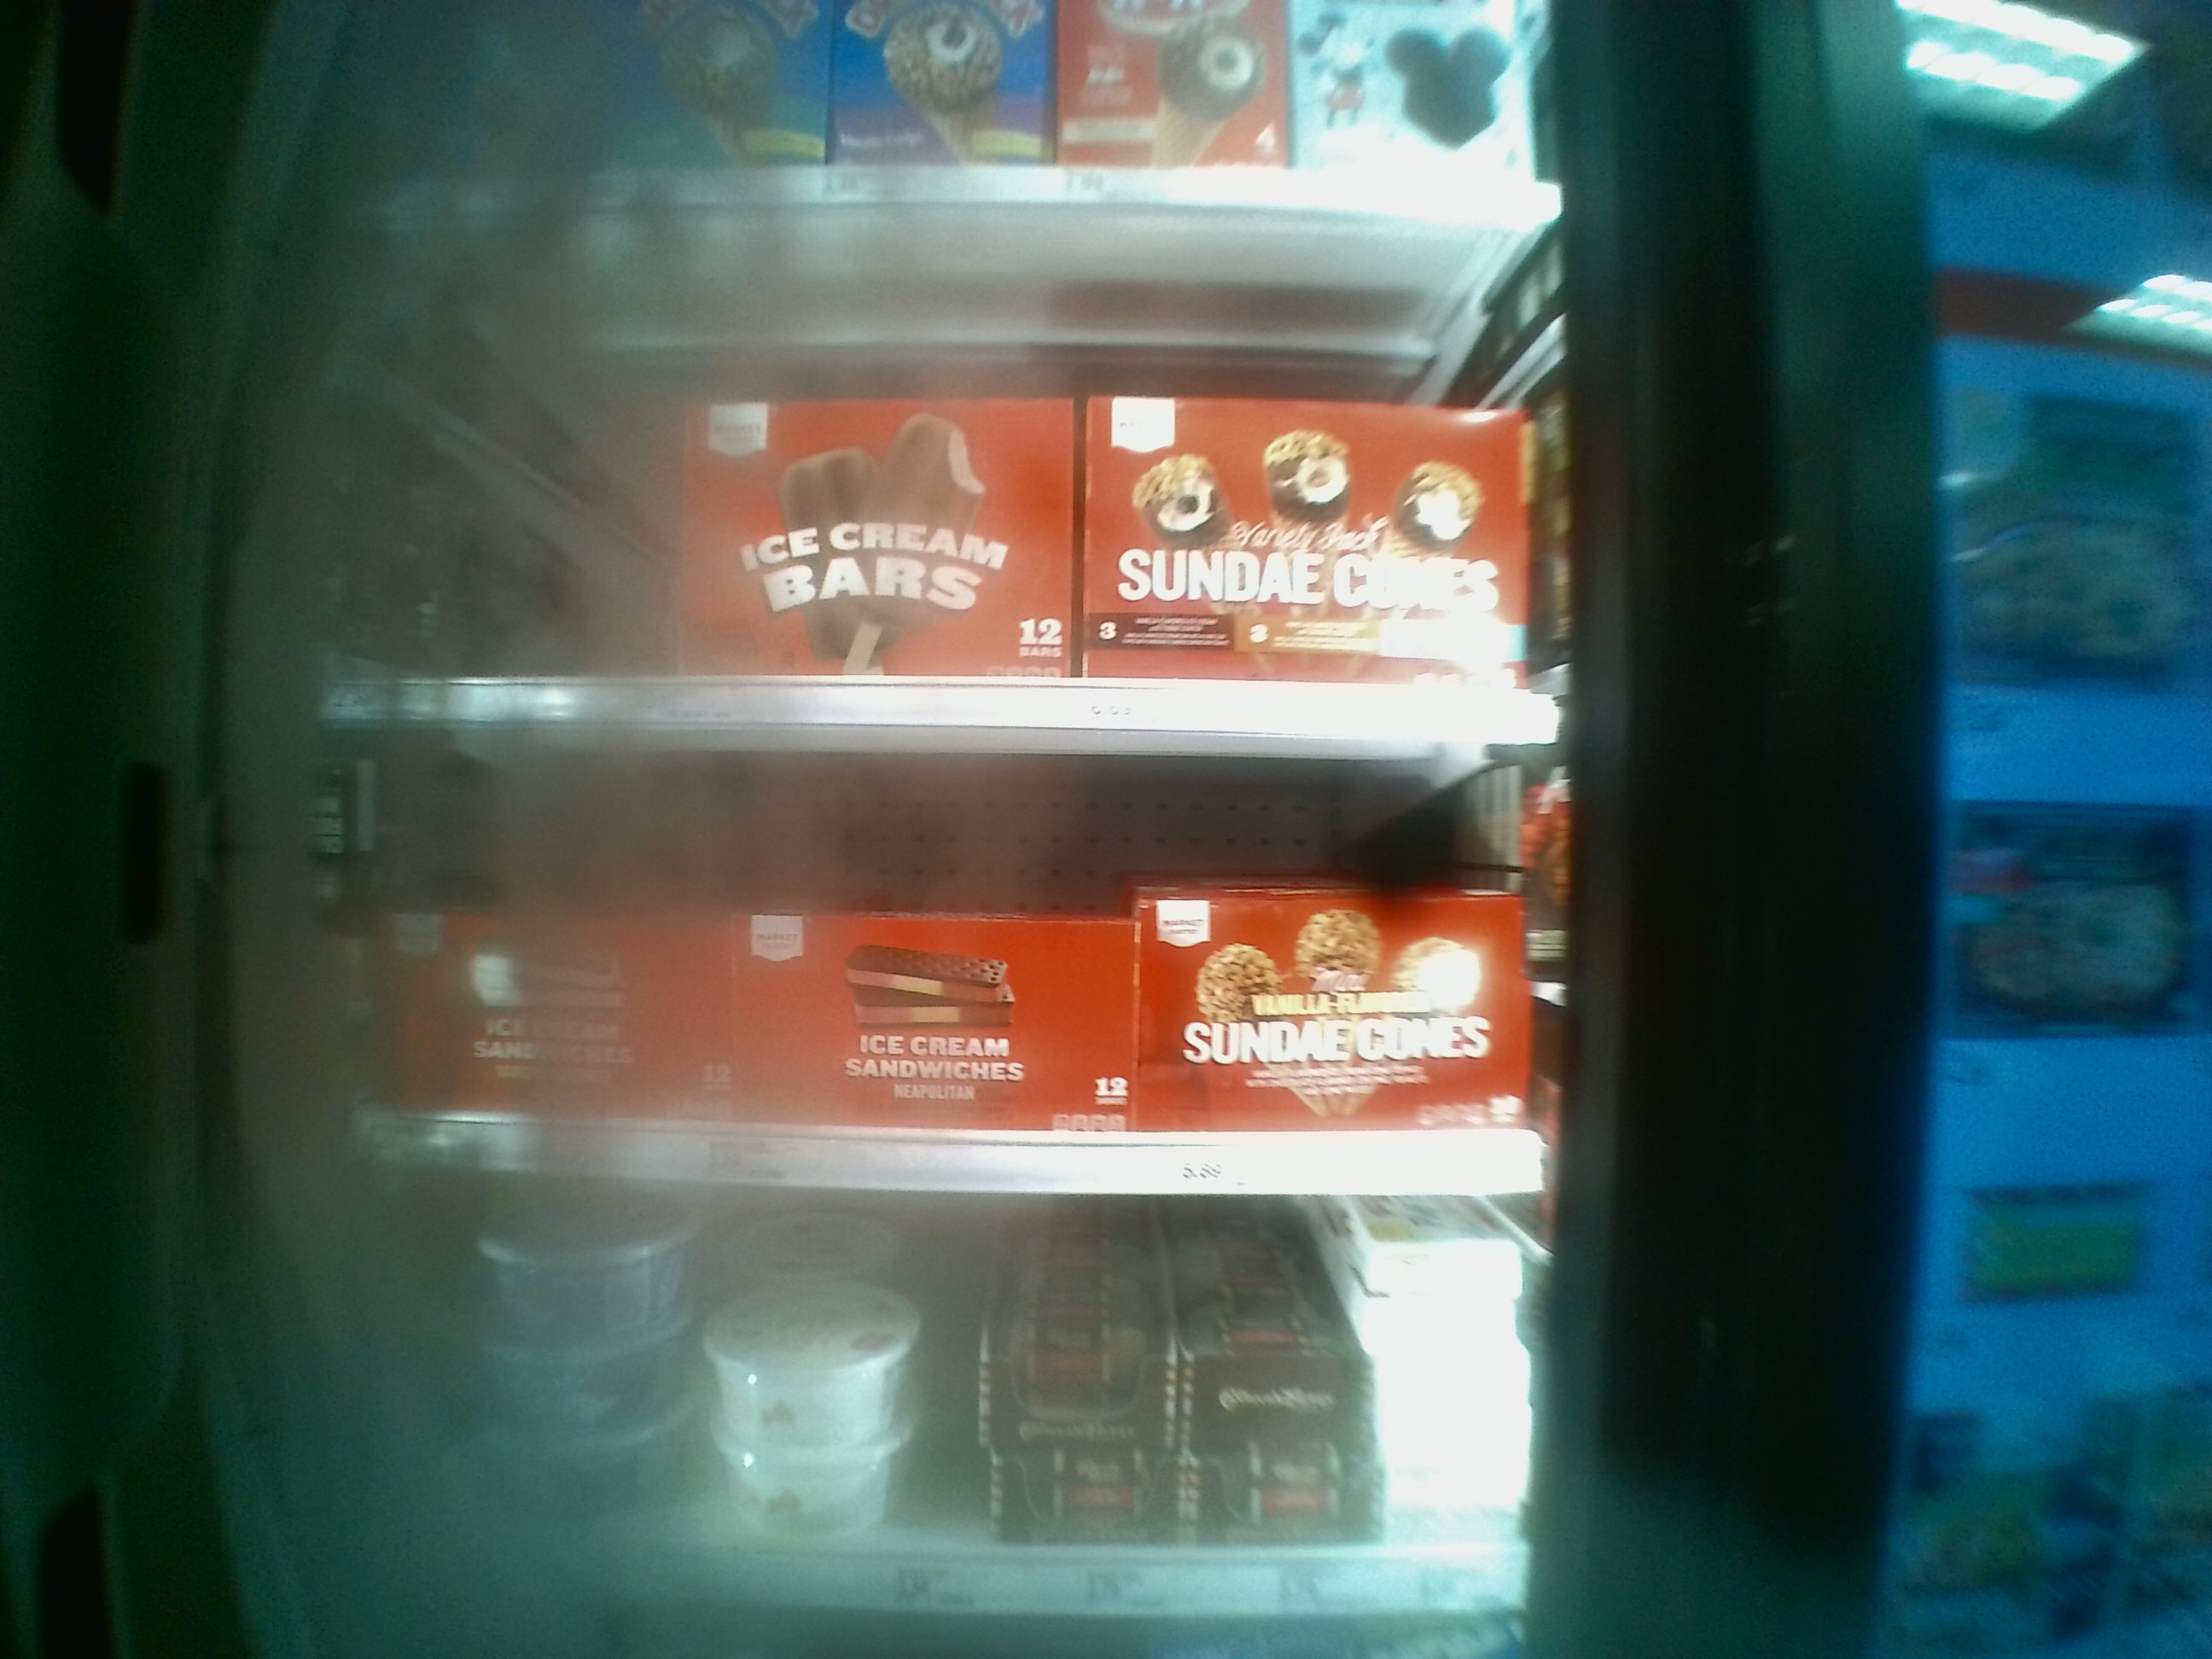frozen-food-shelf: (294, 234, 1588, 756), (280, 753, 1595, 1201)
